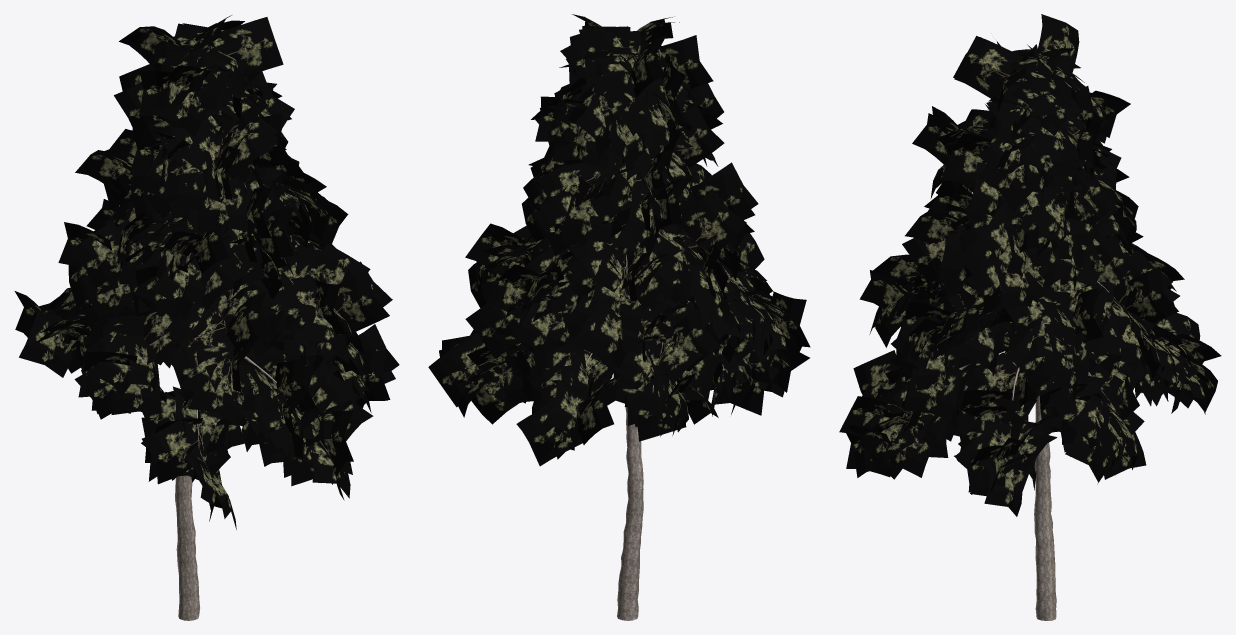
The model's file is mountain_trees.obj.
3 views of the same model, side by side, from view 1: azimuth 30°, elevation 25°; view 2: azimuth 150°, elevation 25°; view 3: azimuth 270°, elevation 25° (orthographic). The views are drawn at different scales.
Visible parts, largest first — view 1: foliage.002, structure.006; view 2: foliage.002, structure.006; view 3: foliage.002, structure.006.
Part boxes in pixels (x1=…): foliage.002: x1=14, y1=15, x2=399, y2=529; structure.006: x1=175, y1=138, x2=292, y2=620; foliage.002: x1=428, y1=14, x2=810, y2=466; structure.006: x1=586, y1=57, x2=696, y2=620; foliage.002: x1=839, y1=14, x2=1221, y2=516; structure.006: x1=918, y1=76, x2=1123, y2=620.
Bounding box in the file's own units: 30.33 × 52.32 × 31.
